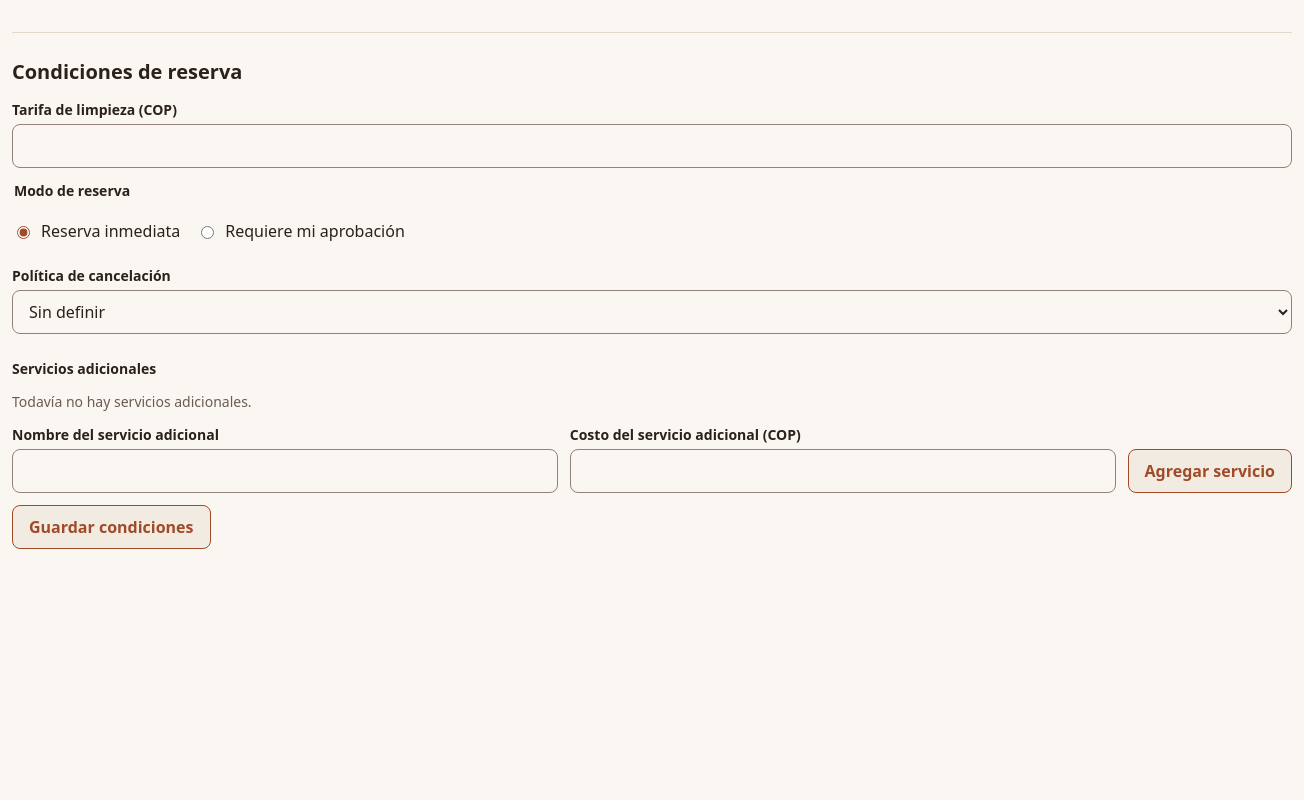
Scenario: ConfiguracionPublicacion › no agrega el servicio adicional Desayuno con costo 0
The image size is (1304, 800).
Type "Desayuno" into the field labelled "Nombre del servicio adicional" at [285, 471], box [12,449,558,493]
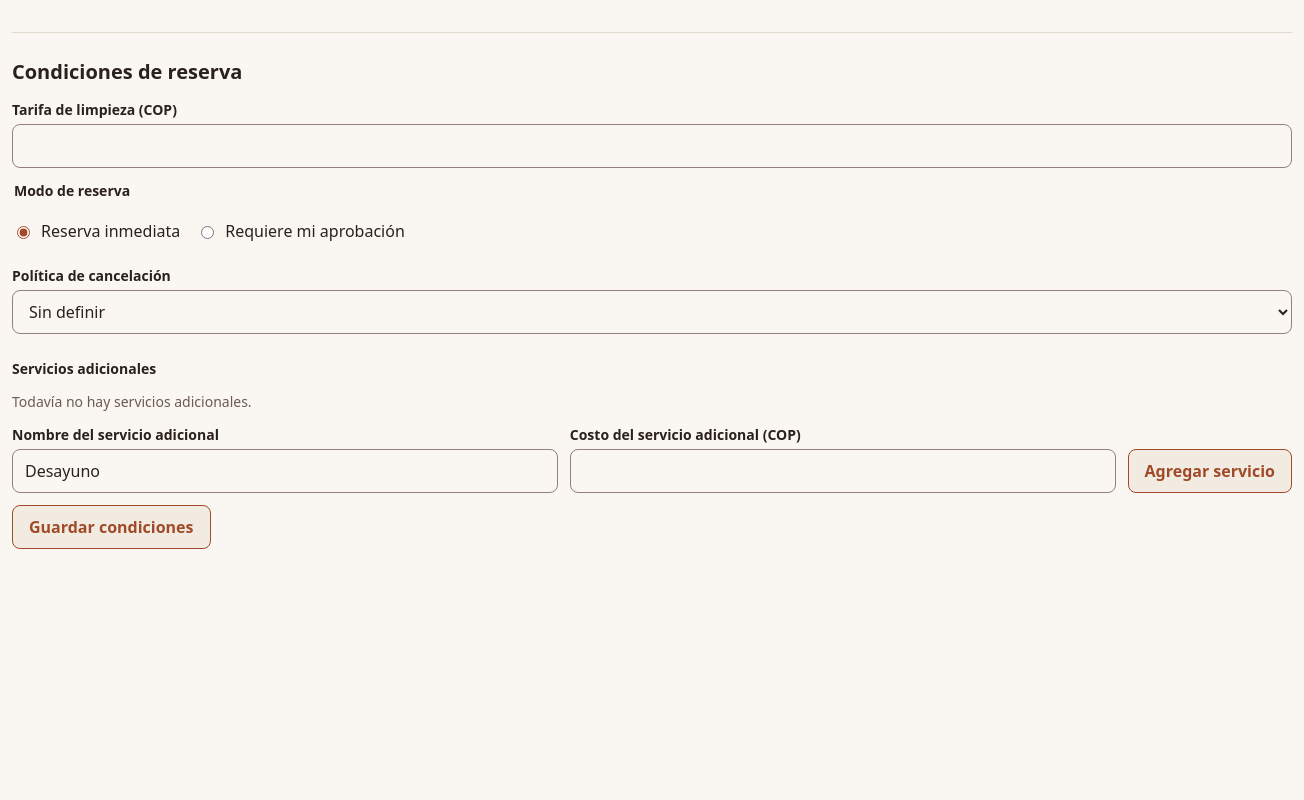
Type "0" into the field labelled "Costo del servicio adicional (COP)" at [843, 471], box [570,449,1116,493]
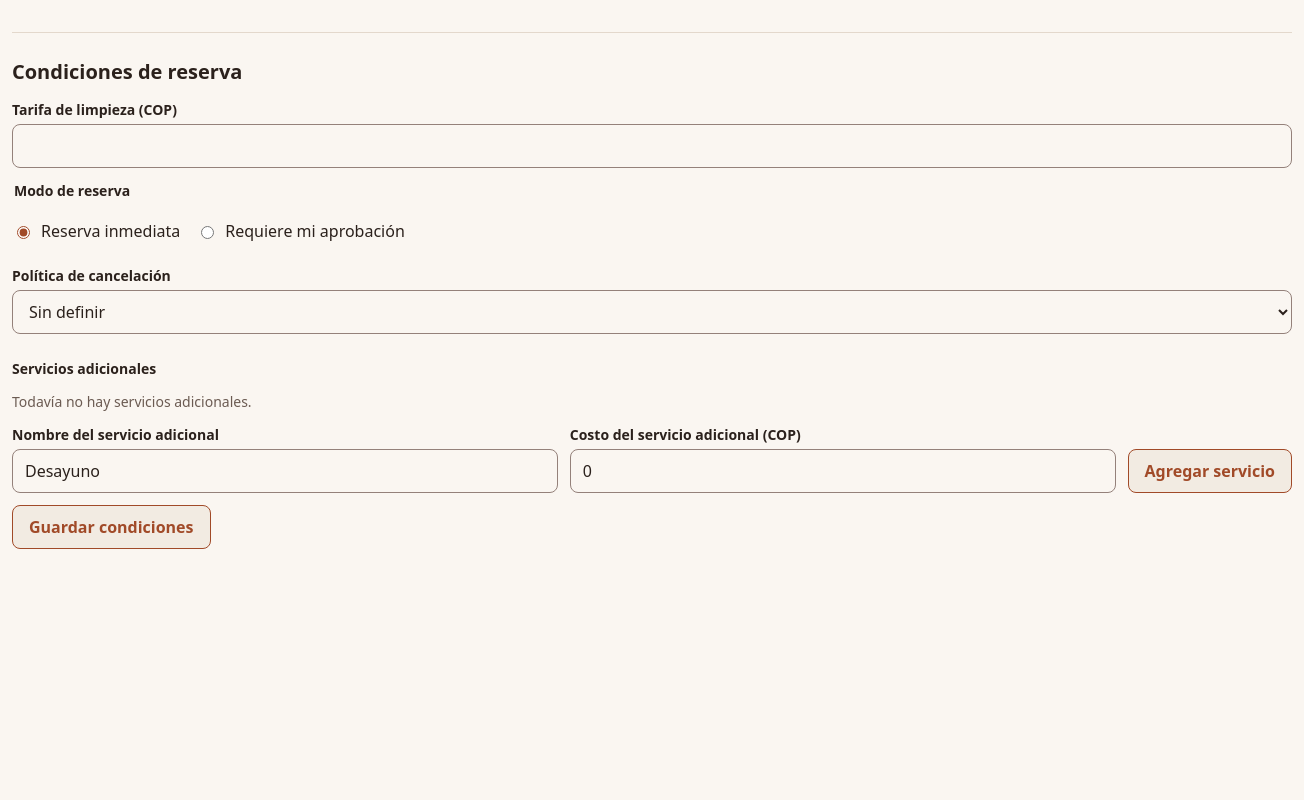
Click the button "Agregar servicio" at [1210, 471], box [1128,449,1292,493]
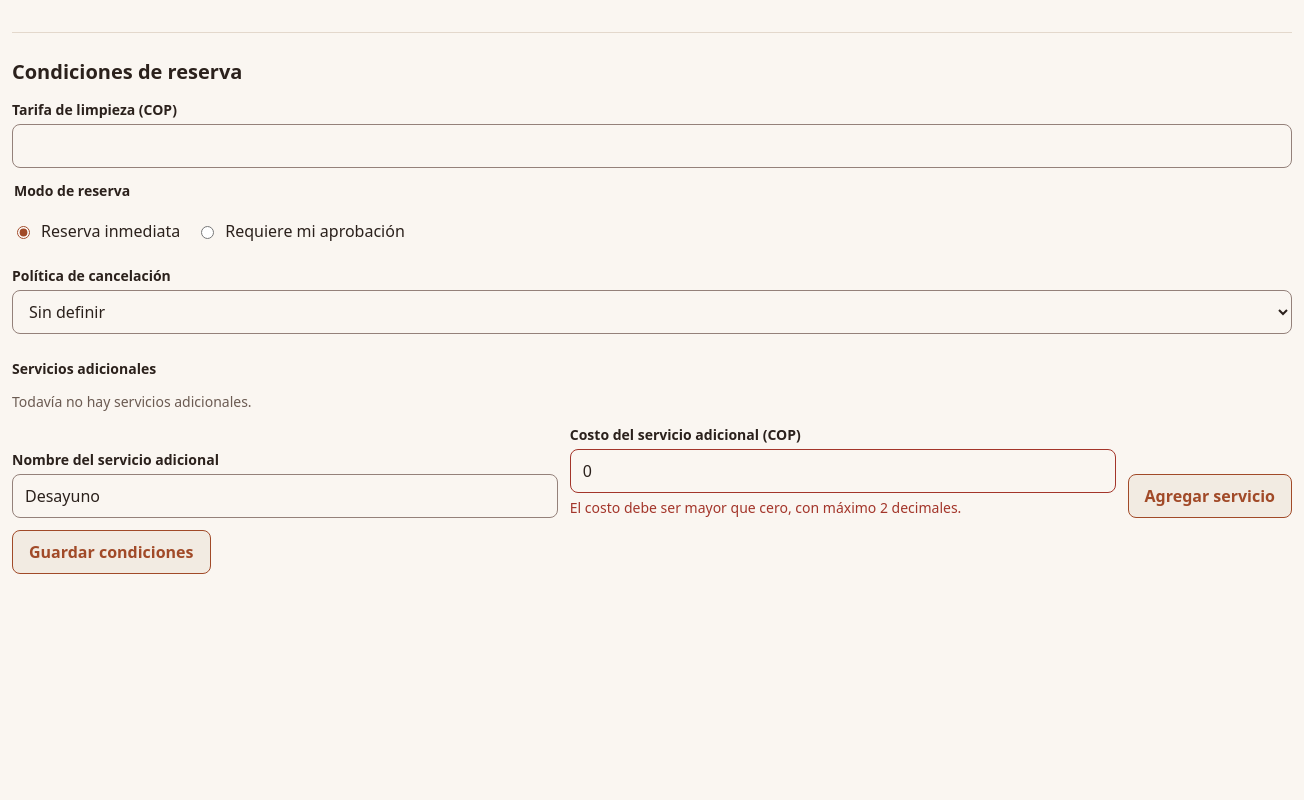
Expected: the text "Todavía no hay servicios adicionales." is shown, [12,392,252,411]
Result: the text "El costo debe ser mayor que cero, con máximo 2 decimales." is shown at [570,498,961,517]
